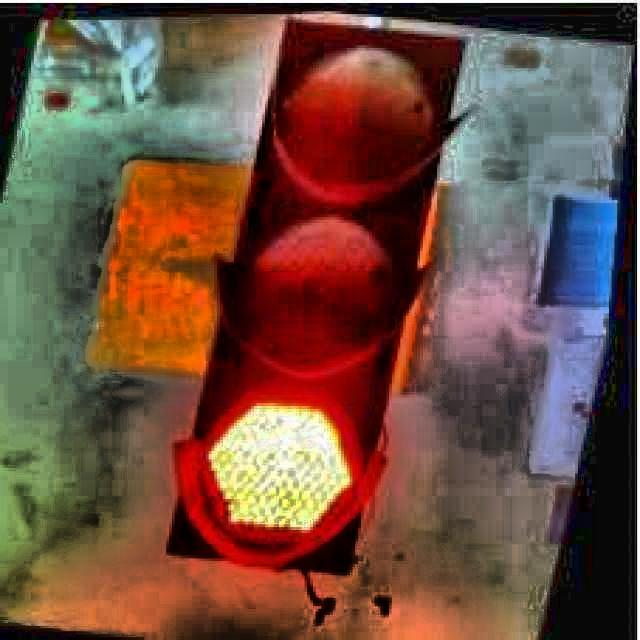red: (170, 20, 471, 562)
